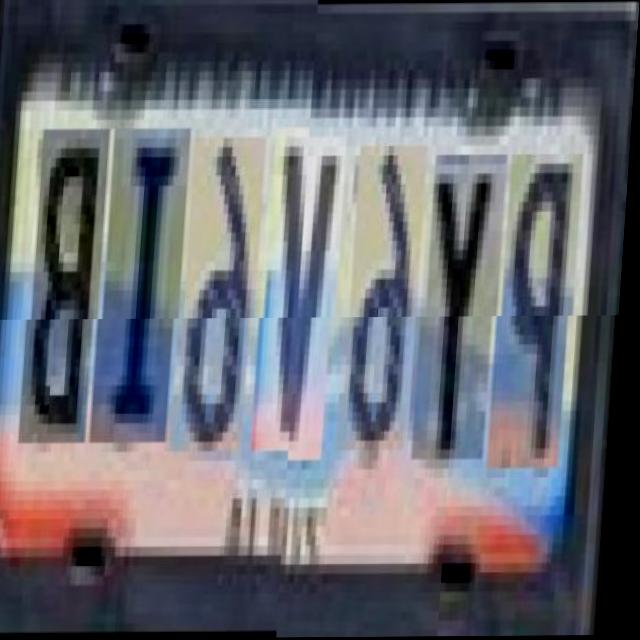6: (175, 147, 263, 462), (342, 146, 425, 451)
b: (24, 138, 107, 453)
i: (95, 138, 188, 452)
p: (493, 155, 581, 469)
v: (256, 137, 344, 460)
y: (417, 155, 505, 460)
